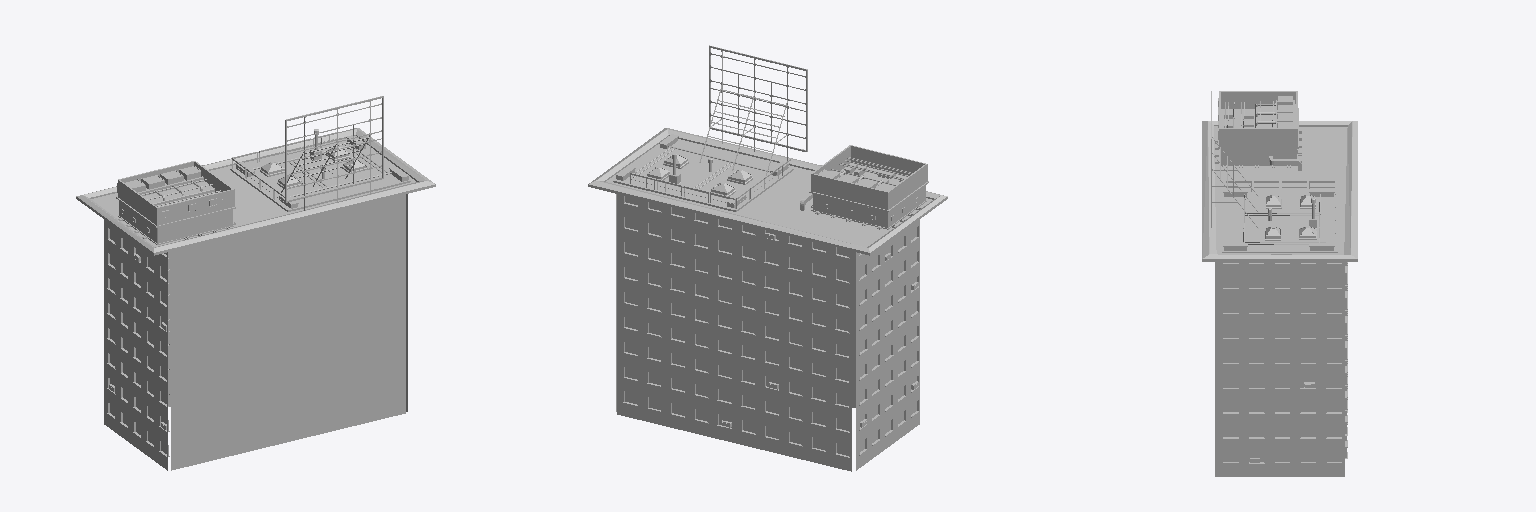
File: u2NWBuild4.obj
3 views of the same model, side by side, from view 1: azimuth 30°, elevation 25°; view 2: azimuth 150°, elevation 25°; view 3: azimuth 270°, elevation 25° (orthographic).
Parts seen in each view (by area): view 1: mass front __Comp1__2, mass roof __Comp1__5, mass sides floors window __Comp1__3 __Repeat2__0 regulaWindow __, mass sides floors window __Repeat2__1 __Comp1__3 regulaWindow __, mass sides floors window __Comp1__3 __Repeat2__4 regulaWindow __, mass sides floors window __Repeat2__3 __Comp1__3 regulaWindow __, mass sides floors window __Comp1__3 regulaWindow __Repeat2__2 __, mass sides floors window airCondWindow1 __Comp1__3 __Repeat1__1 ; view 2: mass roof __Comp1__5, mass sides __Comp1__0 __Repeat1__0 floors window regulaWindow __, mass sides __Comp1__0 floors window __Repeat1__3 regulaWindow __, mass sides __Comp1__0 floors window __Repeat1__5 regulaWindow __, mass sides __Comp1__0 floors window __Repeat1__1 regulaWindow __, mass sides __Comp1__0 floors window __Repeat1__2 regulaWindow __, mass sides __Comp1__0 floors window __Repeat2__0 regulaWindow __, mass sides __Comp1__0 floors window regulaWindow __Repeat2__2 __, mass sides __Comp1__0 floors window regulaWindow __Repeat2__8 __, mass sides __Comp1__0 floors window __Repeat2__4 regulaWindow __, mass sides __Comp1__0 floors window regulaWindow __Repeat2__6 __, mass sides __Comp1__0 floors __Repeat2__5 window regulaWindow __ (+28 smaller); view 3: mass roof __Comp1__5, mass sides floors window __Comp1__1 __Repeat2__0 regulaWindow __, mass sides floors window __Comp1__1 __Repeat2__1 regulaWindow __, mass sides floors window __Comp1__1 regulaWindow __Repeat2__2 __, mass sides floors window __Repeat2__3 __Comp1__1 regulaWindow __, mass sides floors window __Comp1__1 __Repeat2__4 regulaWindow __, mass sides floors window airCondWindow1 __Comp1__1 __Repeat1__3 , mass sides __Repeat1__0 floors window __Comp1__1 __Repeat2__0 re, mass sides __Repeat1__0 floors window __Comp1__1 __Repeat2__1 re, mass sides __Repeat1__0 floors window __Comp1__1 regulaWindow __, mass sides __Repeat1__0 floors window __Comp1__1 __Repeat2__4 re, mass sides floors window __Comp1__1 __Repeat1__1 __Repeat2__0 re (+19 smaller).
Part boxes in pixels (x1,y1,x2,y2): mass front __Comp1__2: (171, 194, 405, 470); mass roof __Comp1__5: (76, 96, 435, 255); mass sides floors window __Comp1__3 __Repeat2__0 regulaWindow __: (156, 252, 169, 370); mass sides floors window __Repeat2__1 __Comp1__3 regulaWindow __: (143, 248, 155, 361); mass sides floors window __Comp1__3 __Repeat2__4 regulaWindow __: (104, 220, 116, 333); mass sides floors window __Repeat2__3 __Comp1__3 regulaWindow __: (117, 229, 129, 342); mass sides floors window __Comp1__3 regulaWindow __Repeat2__2 __: (130, 239, 142, 352); mass sides floors window airCondWindow1 __Comp1__3 __Repeat1__1 : (104, 375, 169, 445); mass roof __Comp1__5: (588, 45, 947, 255); mass sides __Comp1__0 __Repeat1__0 floors window regulaWindow __: (617, 390, 804, 459); mass sides __Comp1__0 floors window __Repeat1__3 regulaWindow __: (617, 315, 804, 385); mass sides __Comp1__0 floors window __Repeat1__5 regulaWindow __: (617, 265, 804, 335); mass sides __Comp1__0 floors window __Repeat1__1 regulaWindow __: (617, 365, 804, 434); mass sides __Comp1__0 floors window __Repeat1__2 regulaWindow __: (617, 340, 804, 409); mass sides __Comp1__0 floors window __Repeat2__0 regulaWindow __: (828, 246, 851, 371); mass sides __Comp1__0 floors window regulaWindow __Repeat2__2 __: (781, 234, 804, 360); mass sides __Comp1__0 floors window regulaWindow __Repeat2__8 __: (640, 200, 663, 325); mass sides __Comp1__0 floors window __Repeat2__4 regulaWindow __: (734, 223, 757, 348); mass sides __Comp1__0 floors window regulaWindow __Repeat2__6 __: (687, 211, 710, 337); mass sides __Comp1__0 floors __Repeat2__5 window regulaWindow __: (711, 217, 733, 342); mass roof __Comp1__5: (1202, 91, 1357, 261); mass sides floors window __Comp1__1 __Repeat2__0 regulaWindow __: (1319, 262, 1344, 376); mass sides floors window __Comp1__1 __Repeat2__1 regulaWindow __: (1293, 262, 1318, 376); mass sides floors window __Comp1__1 regulaWindow __Repeat2__2 __: (1267, 262, 1292, 376); mass sides floors window __Repeat2__3 __Comp1__1 regulaWindow __: (1241, 262, 1266, 376); mass sides floors window __Comp1__1 __Repeat2__4 regulaWindow __: (1215, 262, 1240, 376); mass sides floors window airCondWindow1 __Comp1__1 __Repeat1__3 : (1293, 377, 1318, 401); mass sides __Repeat1__0 floors window __Comp1__1 __Repeat2__0 re: (1319, 452, 1344, 476); mass sides __Repeat1__0 floors window __Comp1__1 __Repeat2__1 re: (1293, 452, 1318, 476); mass sides __Repeat1__0 floors window __Comp1__1 regulaWindow __: (1267, 452, 1292, 476); mass sides __Repeat1__0 floors window __Comp1__1 __Repeat2__4 re: (1215, 452, 1240, 476); mass sides floors window __Comp1__1 __Repeat1__1 __Repeat2__0 re: (1319, 427, 1344, 451).
Size of the model in its own units: 8820 by 9713 by 4200.